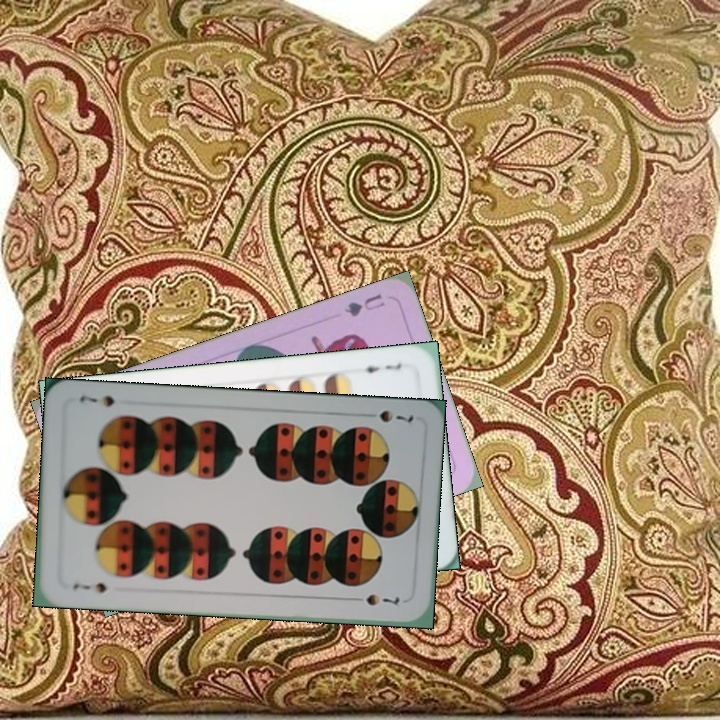E7: (354, 359, 404, 376)
GU: (340, 290, 387, 320)
S7: (375, 406, 416, 425), (69, 578, 109, 595)
